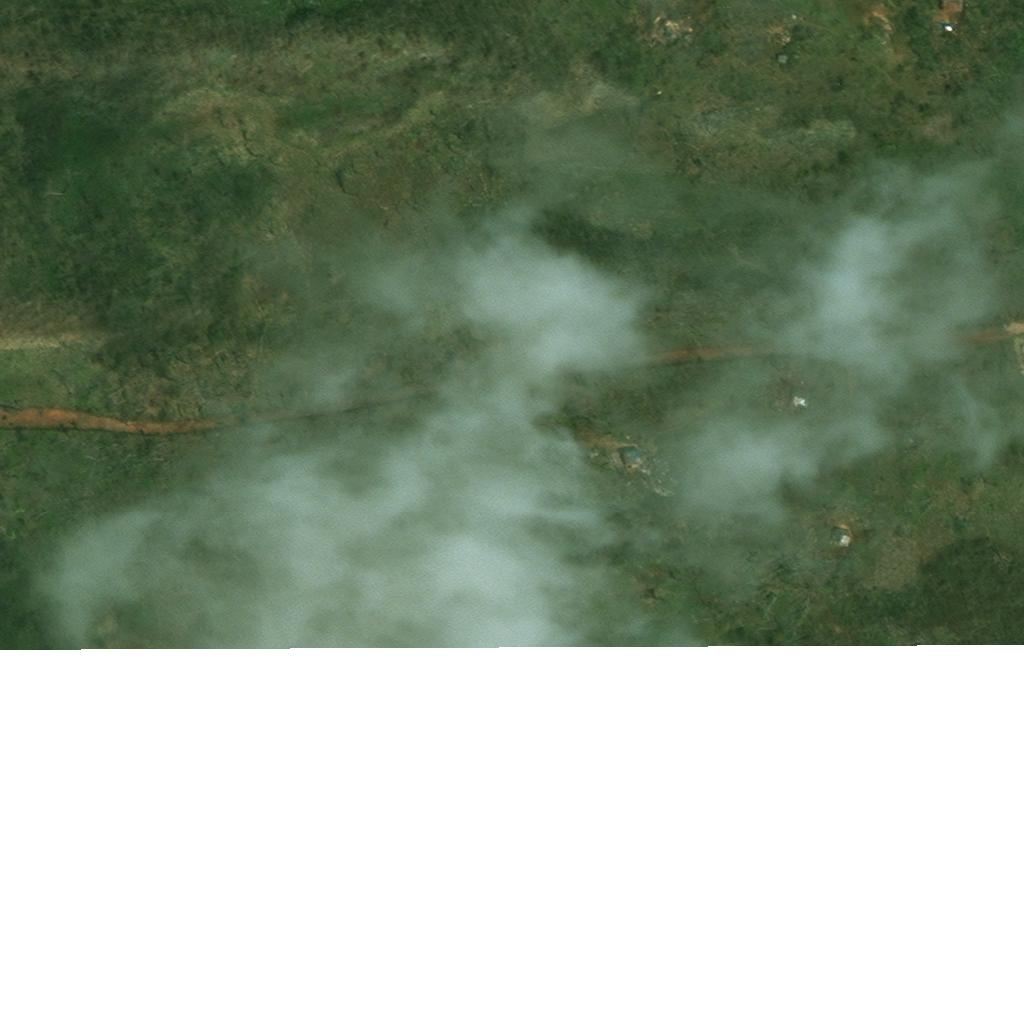destroyed: (663, 17, 680, 33), (775, 33, 785, 43)
major_damage: (617, 446, 638, 464), (799, 385, 818, 404)
minor_damage: (848, 530, 867, 544)
